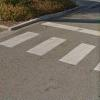Crosswalk: (14, 22, 100, 73)
